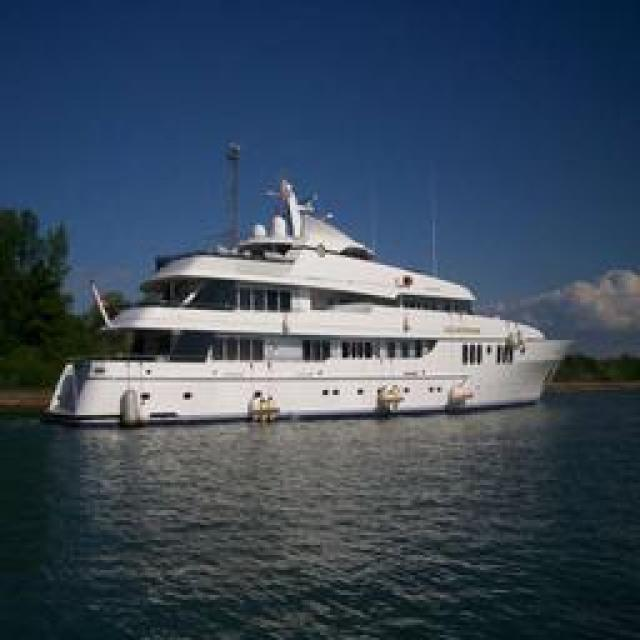CIV_Ship: (47, 168, 585, 428)
